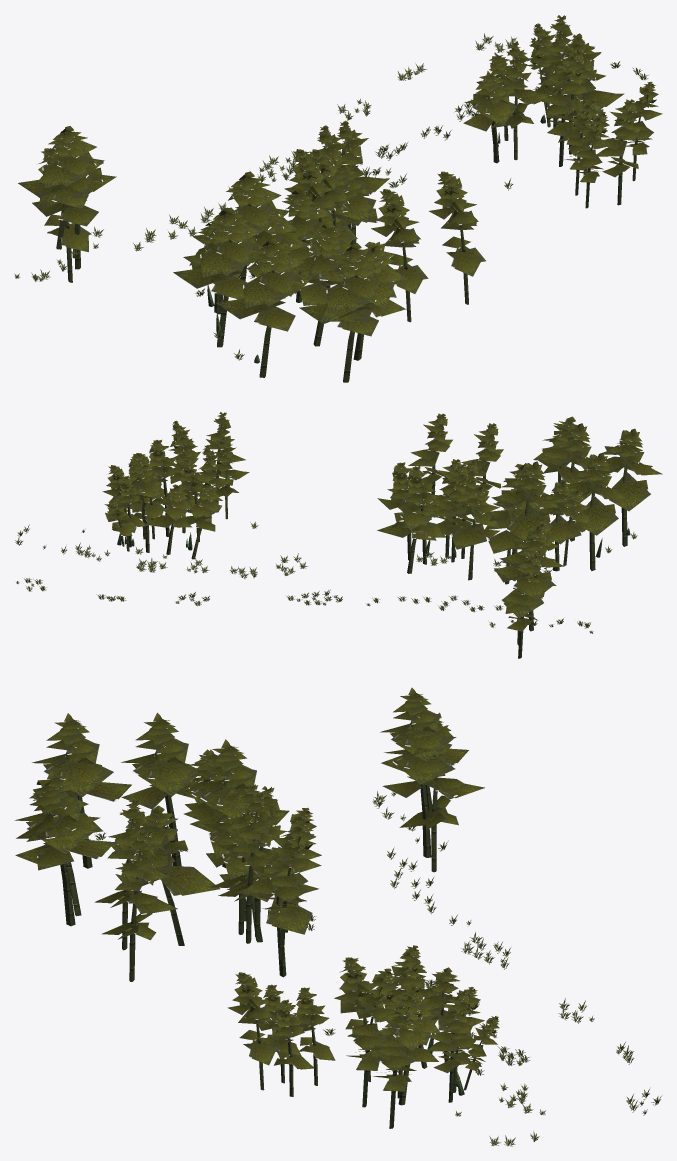
The model's file is tree01.fbx.
The picture shows the model from 3 angles, top to bottom: view 1: azimuth 30°, elevation 25°; view 2: azimuth 150°, elevation 25°; view 3: azimuth 270°, elevation 25°; orthographic projection. The views are drawn at different scales.
Visible parts, largest first — view 1: tree01; view 2: tree01; view 3: tree01.
Part boxes in pixels (x1,y1,x2,y2): tree01: (14,15,662,382); tree01: (15,412,662,658); tree01: (14,687,661,1146).
Bounding box in the file's own units: 6885 × 1668 × 5345.
